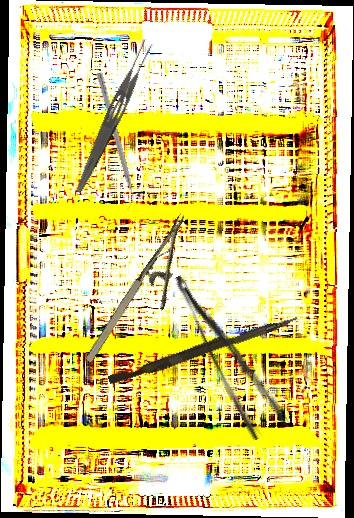Chopper: (89, 72, 139, 211)
Dressing Forceps: (171, 260, 290, 443), (72, 37, 157, 197)
Needle Holder: (80, 212, 215, 380)
Pusher: (107, 308, 299, 390)
